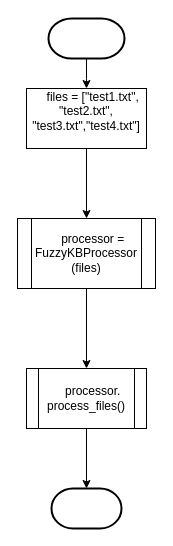
Image size: 173x546. Some labels were removed from this diagram. Here are the shapes that lost their labels. From the top down, the box of each, then its label:
(47, 17, 125, 59): begin
(50, 487, 122, 529): end
